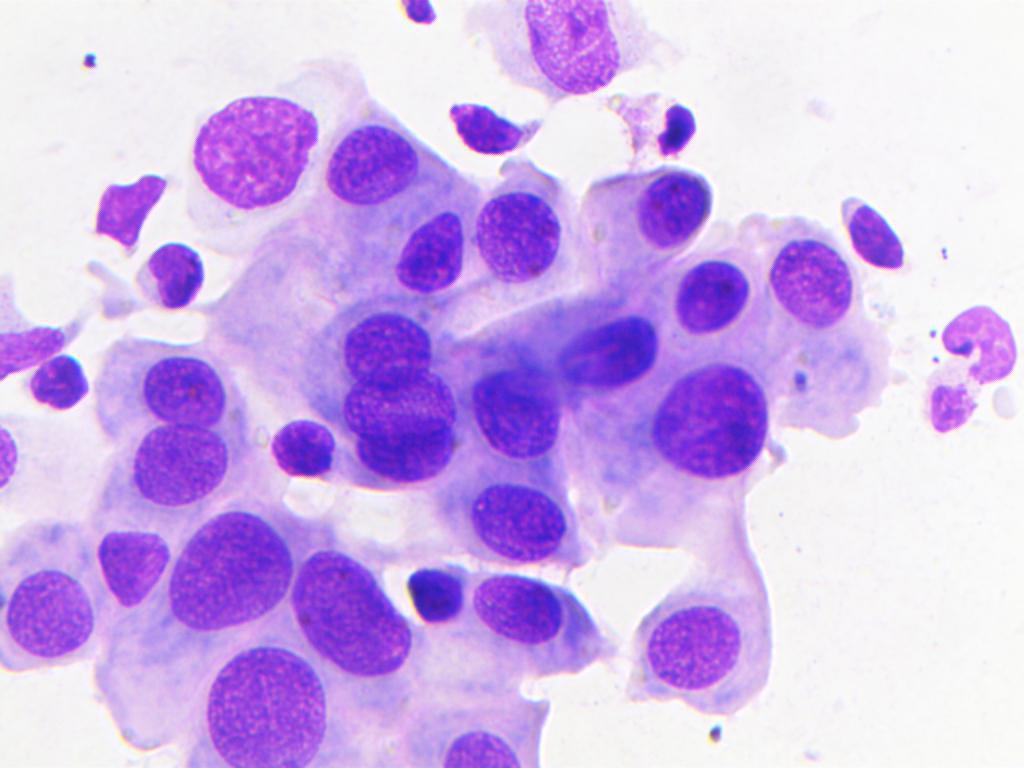artifact: (920, 296, 1024, 463), (82, 163, 178, 249), (0, 318, 70, 379)
epithelial: (620, 540, 787, 718), (183, 95, 321, 219), (282, 528, 404, 667), (155, 502, 281, 634), (181, 639, 315, 759), (655, 354, 770, 479), (576, 162, 712, 262), (0, 554, 102, 686), (470, 560, 601, 660), (523, 0, 634, 108), (456, 476, 584, 568), (105, 338, 233, 426), (109, 426, 241, 510), (458, 363, 561, 469), (548, 293, 662, 385), (324, 304, 442, 388), (765, 221, 858, 327), (347, 416, 468, 491), (323, 123, 424, 212), (378, 205, 479, 294), (469, 189, 569, 278), (337, 370, 461, 441), (90, 519, 180, 612), (669, 256, 751, 345), (414, 713, 537, 768)
metaplastic: (833, 192, 936, 269), (259, 413, 344, 486), (442, 101, 544, 161), (146, 242, 214, 319), (28, 343, 93, 412), (408, 560, 469, 631), (653, 93, 713, 156)
